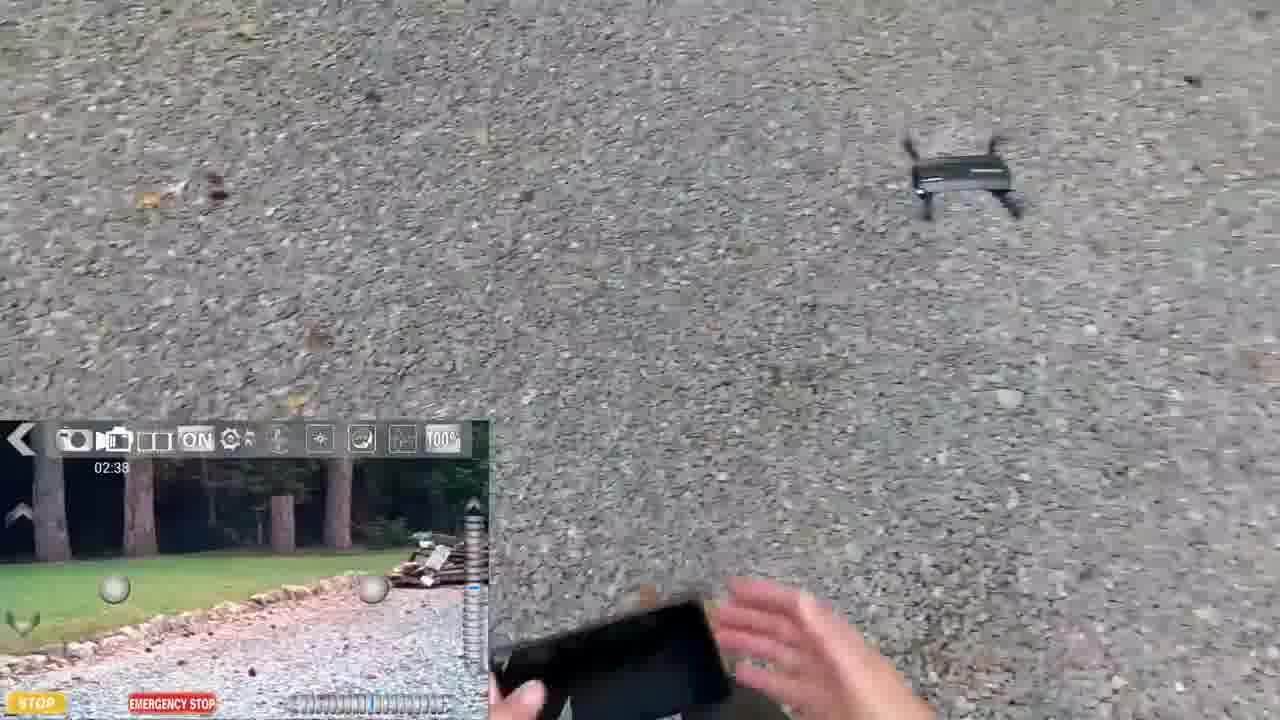drone: (880, 117, 1044, 230)
